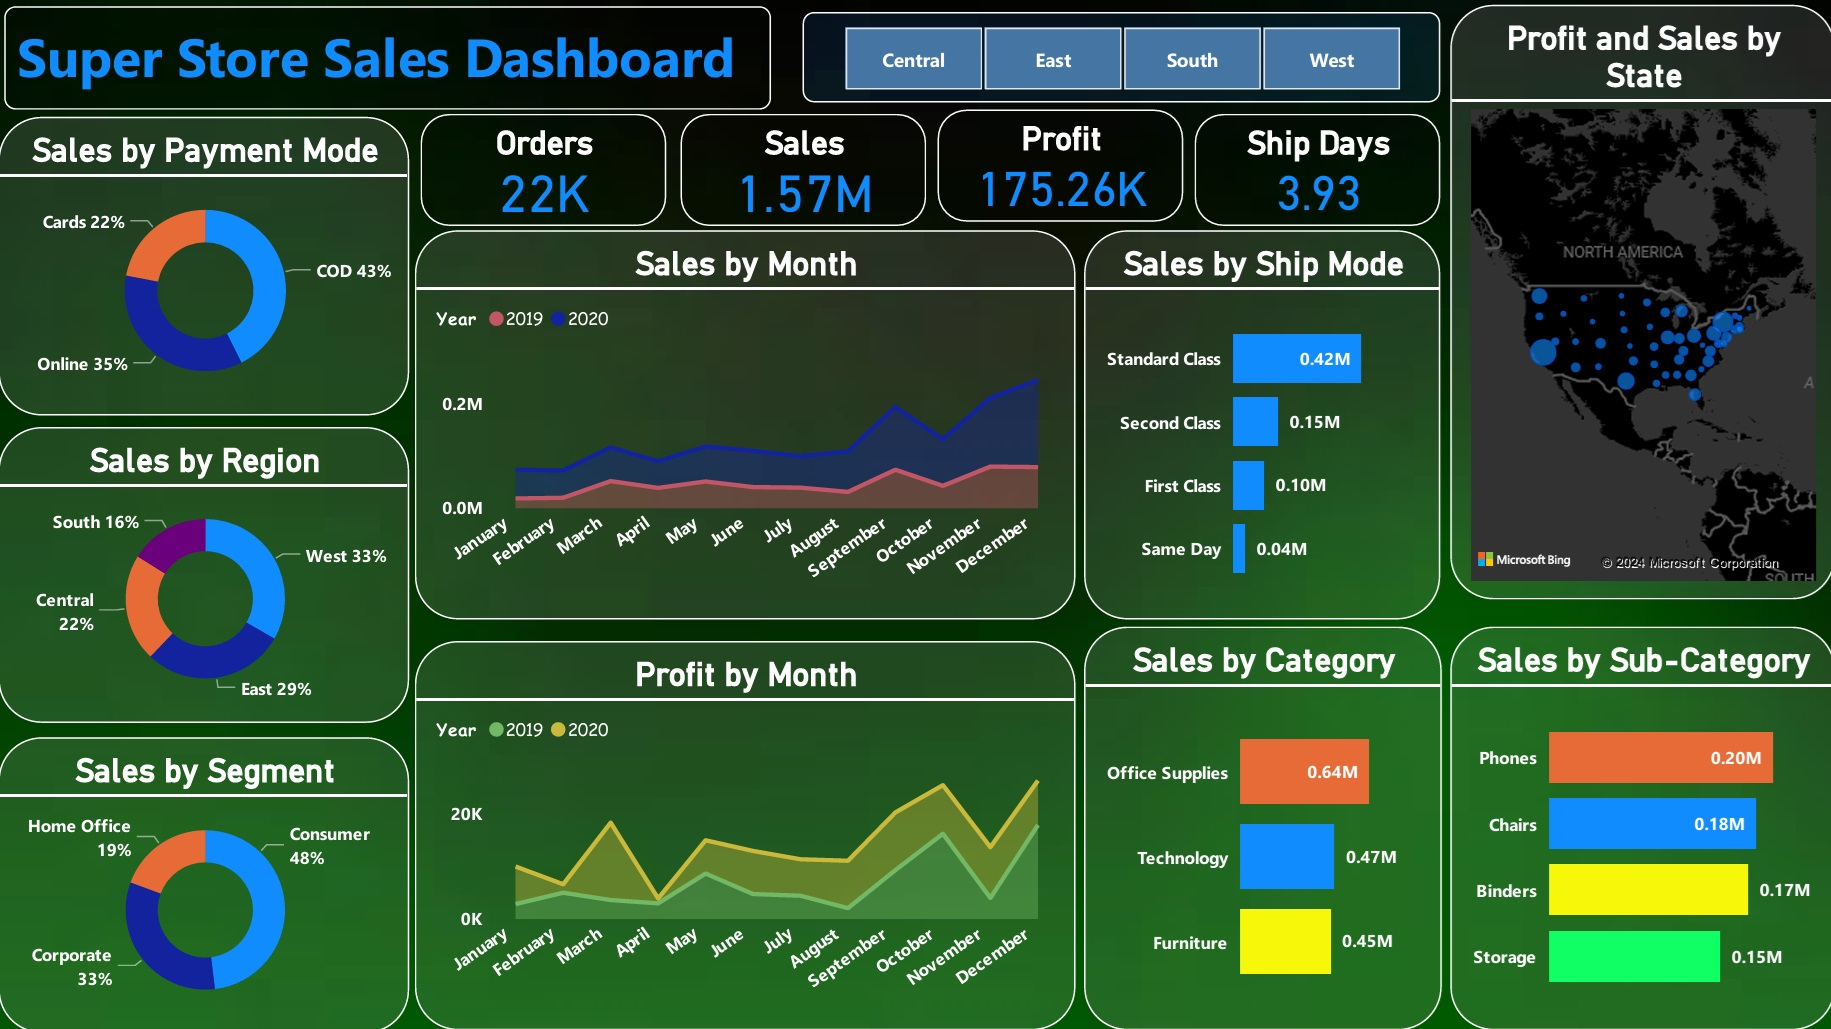

The dashboard page shown, as its layout file describes it:
{"tool":"powerbi","page":{"name":"Page 1","canvas":[1280,720],"ordinal":0},"visuals":[{"type":"clusteredBarChart","title":"Sales by Category","fields":{"Category":["SuperStore_Sales_Dataset.Category"],"Y":["Sum(SuperStore_Sales_Dataset.Sales)"]},"box":[755.9,436.1,248.6,280.6],"z":0},{"type":"clusteredBarChart","title":"Sales by Ship Mode","fields":{"Category":["SuperStore_Sales_Dataset.Ship Mode"],"Y":["Sum(SuperStore_Sales_Dataset.Sales)"]},"box":[755.6,159.7,248.6,270.8],"z":1000},{"type":"clusteredBarChart","title":"Sales by Sub-Category","fields":{"Category":["SuperStore_Sales_Dataset.Sub-Category"],"Y":["Sum(SuperStore_Sales_Dataset.Sales)"]},"box":[1011.1,436.1,268.1,280.6],"z":2000},{"type":"stackedAreaChart","title":"Sales by Month ","fields":{"Category":["SuperStore_Sales_Dataset.Order Date.Variation.Date Hierarchy.Month","SuperStore_Sales_Dataset.Order Date.Variation.Date Hierarchy.Day"],"Y":["Sum(SuperStore_Sales_Dataset.Sales)"],"Series":["SuperStore_Sales_Dataset.Order Date.Variation.Date Hierarchy.Year"]},"box":[290.3,159.7,459.7,270.8],"z":3000},{"type":"stackedAreaChart","title":"Profit by Month","fields":{"Category":["SuperStore_Sales_Dataset.Order Date.Variation.Date Hierarchy.Month","SuperStore_Sales_Dataset.Order Date.Variation.Date Hierarchy.Day"],"Series":["SuperStore_Sales_Dataset.Order Date.Variation.Date Hierarchy.Year"],"Y":["Sum(SuperStore_Sales_Dataset.Profit)"]},"box":[290.3,445.8,459.7,270.8],"z":4000},{"type":"map","title":"Profit and Sales by State","fields":{"Category":["SuperStore_Sales_Dataset.State"],"Size":["Sum(SuperStore_Sales_Dataset.Sales)"]},"box":[1011.1,2.8,268.1,413.9],"z":5000},{"type":"donutChart","title":"Sales by Segment","fields":{"Y":["Sum(SuperStore_Sales_Dataset.Sales)"],"Category":["SuperStore_Sales_Dataset.Segment"]},"box":[0,512.5,286.1,206.9],"z":6000},{"type":"donutChart","title":"Sales by Region","fields":{"Y":["Sum(SuperStore_Sales_Dataset.Sales)"],"Category":["SuperStore_Sales_Dataset.Region"]},"box":[0,297.2,286.1,205.6],"z":7000},{"type":"donutChart","title":"Sales by Payment Mode","fields":{"Y":["Sum(SuperStore_Sales_Dataset.Sales)"],"Category":["SuperStore_Sales_Dataset.Payment Mode"]},"box":[0,80.6,286.1,208.3],"z":8000},{"type":"textbox","box":[4.2,4.2,533.3,72.2],"z":9000},{"type":"slicer","fields":{"Values":["SuperStore_Sales_Dataset.Region"]},"box":[559.7,8.3,444.4,62.5],"z":10000},{"type":"card","title":"Sales","fields":{"Values":["Sum(SuperStore_Sales_Dataset.Sales)"]},"box":[475,79.2,170.8,77.8],"z":11000},{"type":"card","title":"Orders","fields":{"Values":["Sum(SuperStore_Sales_Dataset.Quantity)"]},"box":[294.4,79.2,170.8,77.8],"z":12000},{"type":"card","title":"Profit","fields":{"Values":["Sum(SuperStore_Sales_Dataset.Profit)"]},"box":[654.2,76.4,170.8,77.8],"z":13000},{"type":"card","title":"Ship Days","fields":{"Values":["Avg(SuperStore_Sales_Dataset.AvgDelivery)"]},"box":[833.3,79.2,170.8,77.8],"z":14000}]}

Visuals, with their boxes in screenshot pixels (x1, y1, x2, y2), scaled from the page's 1280x720 canvas onto the 1831x1029 screenshot:
"Sales by Category" clusteredBarChart: 1081, 623, 1437, 1024
"Sales by Ship Mode" clusteredBarChart: 1081, 228, 1436, 615
"Sales by Sub-Category" clusteredBarChart: 1446, 623, 1830, 1024
"Sales by Month " stackedAreaChart: 415, 228, 1073, 615
"Profit by Month" stackedAreaChart: 415, 637, 1073, 1024
"Profit and Sales by State" map: 1446, 4, 1830, 596
"Sales by Segment" donutChart: 0, 732, 409, 1028
"Sales by Region" donutChart: 0, 425, 409, 719
"Sales by Payment Mode" donutChart: 0, 115, 409, 413
textbox: 6, 6, 769, 109
slicer - SuperStore_Sales_Dataset.Region: 801, 12, 1436, 101
"Sales" card: 679, 113, 924, 224
"Orders" card: 421, 113, 665, 224
"Profit" card: 936, 109, 1180, 220
"Ship Days" card: 1192, 113, 1436, 224
